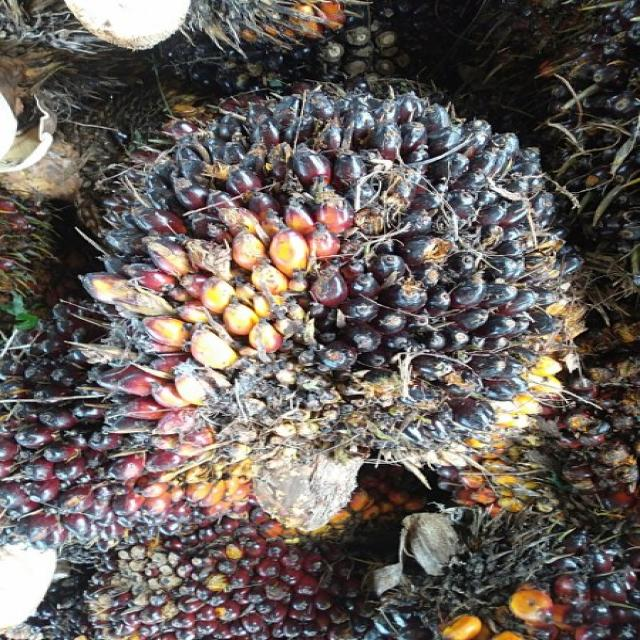fraksi 00: (73, 85, 576, 485)
